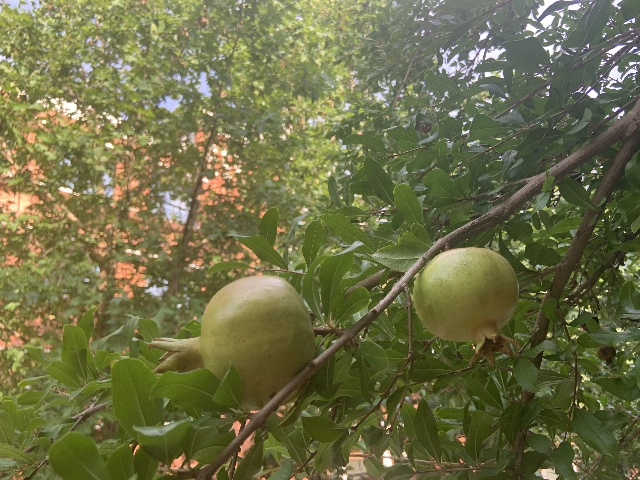mid-growth: (148, 275, 318, 409), (412, 245, 521, 369)
